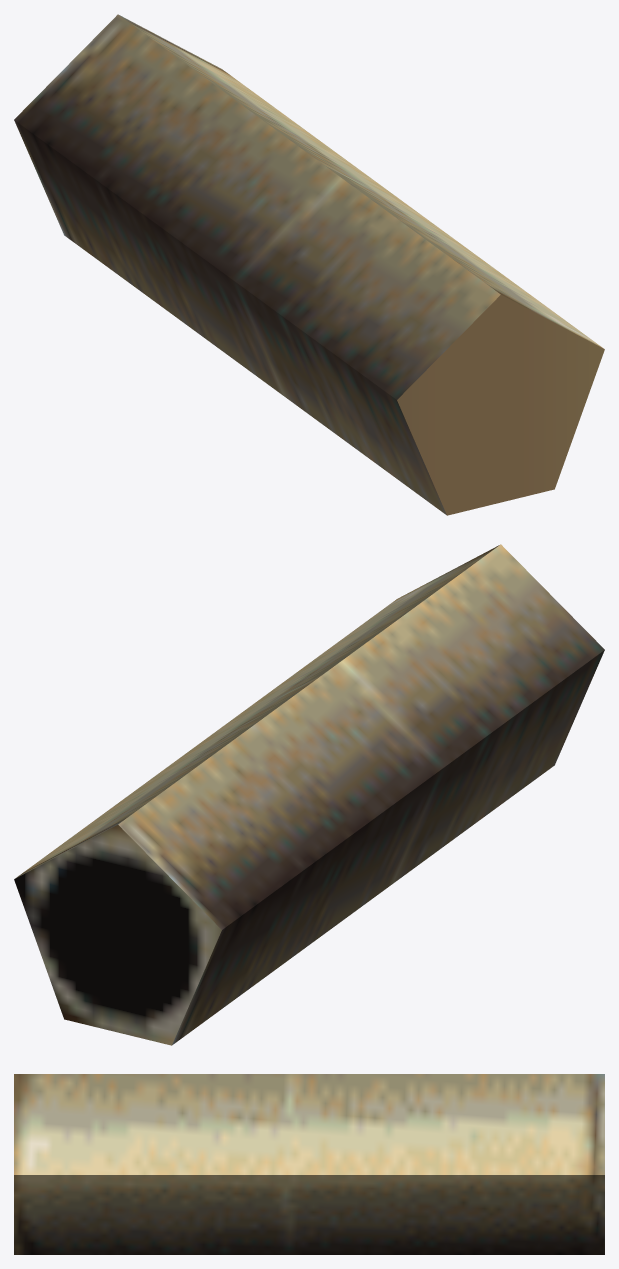
The model's file is casing22.glb.
The picture shows the model from 3 angles, top to bottom: view 1: azimuth 30°, elevation 25°; view 2: azimuth 150°, elevation 25°; view 3: azimuth 270°, elevation 25°; orthographic projection. The views are drawn at different scales.
Parts seen in each view (by area): view 1: Plinking unspent; view 2: Plinking unspent; view 3: Plinking unspent.
Part boxes in pixels (x1,y1,x2,y2): Plinking unspent: [14, 14, 604, 515]; Plinking unspent: [14, 544, 604, 1045]; Plinking unspent: [14, 1074, 604, 1254].
Size of the model in its own units: 0.02 by 0.0191 by 0.0638.
1 material, 1 textured.
